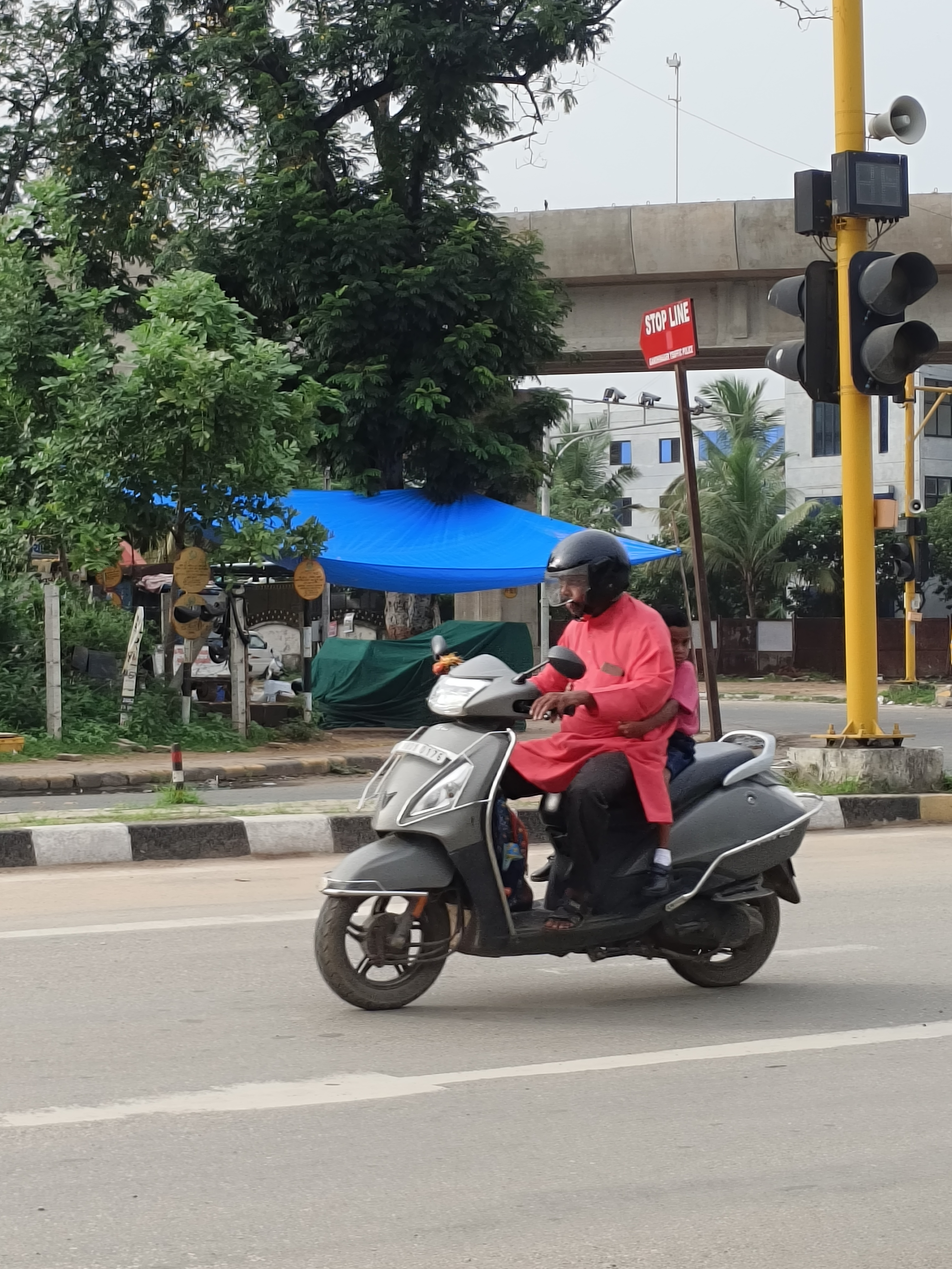BikeWithRider: (309, 526, 830, 1011)
Helmet: (533, 528, 634, 621)
